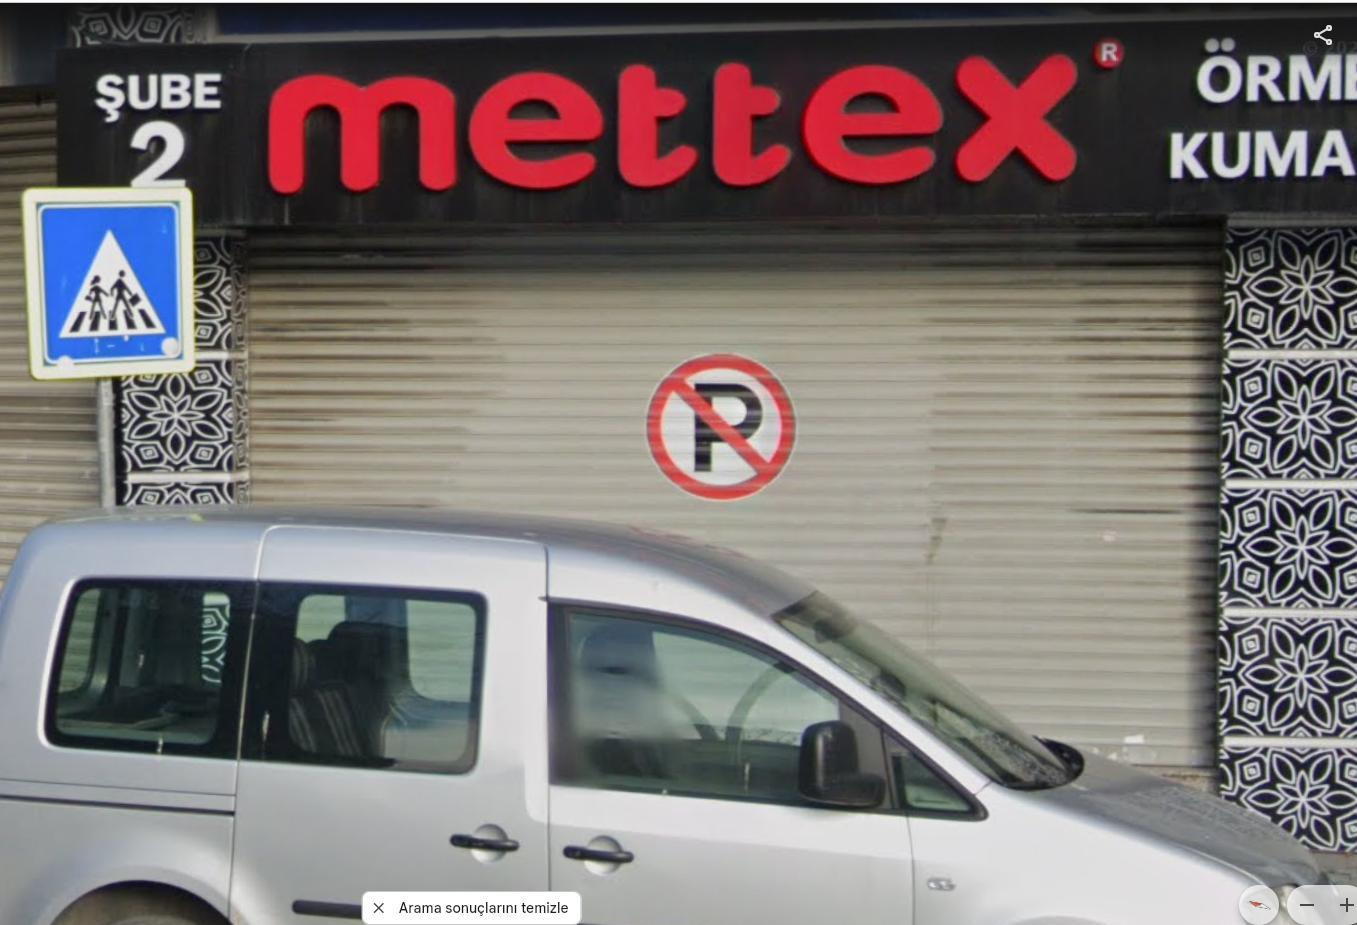nopark: (658, 353, 789, 487)
